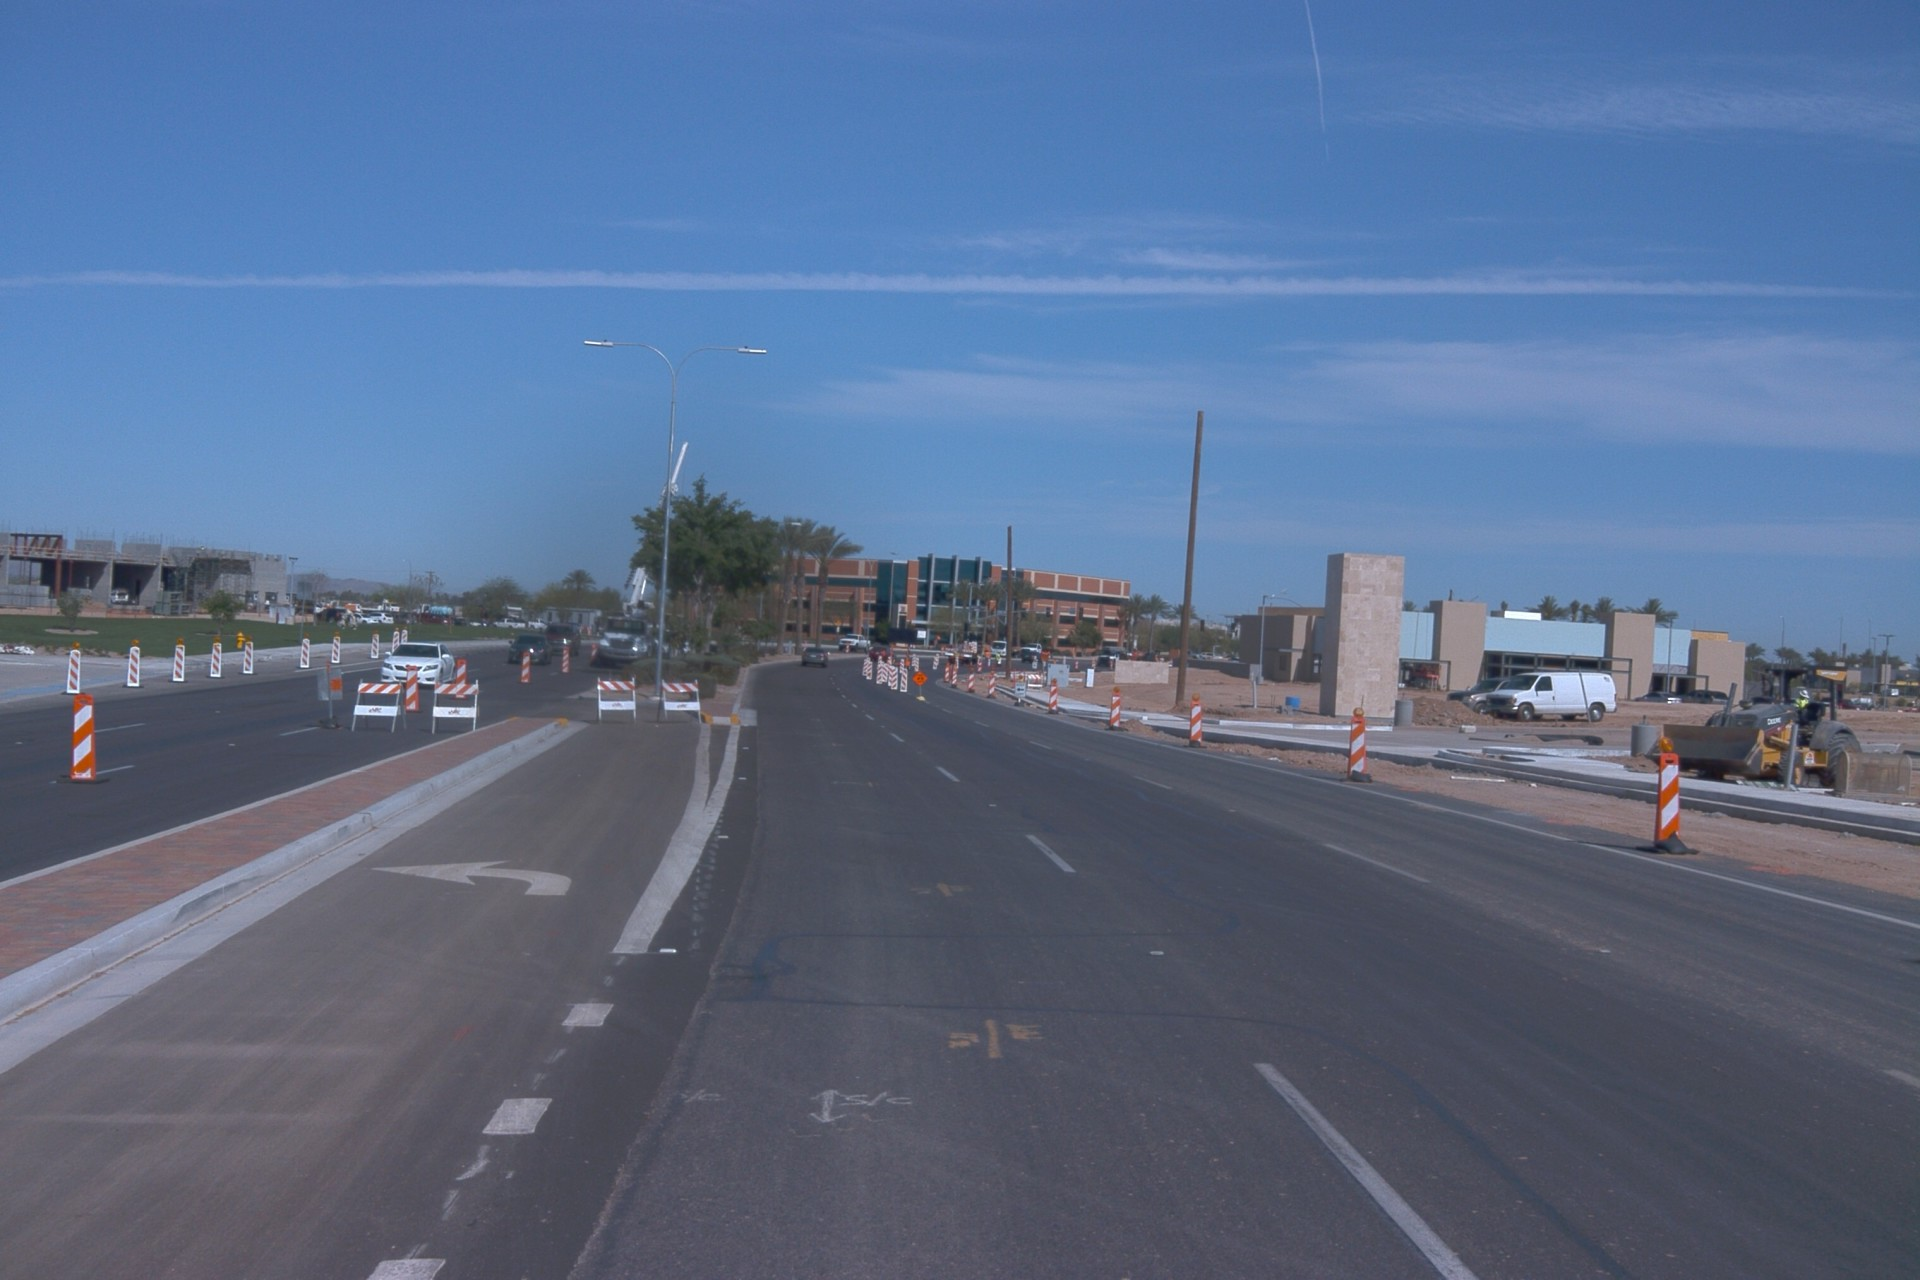TYPE_PEDESTRIAN: (1795, 690, 1812, 712), (994, 652, 1003, 669)
TYPE_VEHICLE: (585, 430, 701, 674), (1483, 672, 1619, 726), (378, 641, 455, 691), (1444, 677, 1515, 716), (881, 626, 919, 677), (540, 621, 583, 660), (507, 631, 552, 665), (941, 637, 986, 668), (1094, 645, 1138, 667), (1678, 688, 1730, 706), (311, 604, 352, 625), (1018, 639, 1059, 660), (288, 597, 330, 617), (413, 609, 454, 628), (1819, 696, 1868, 711), (801, 645, 831, 669), (1632, 692, 1684, 705), (837, 632, 872, 651), (865, 641, 895, 663), (489, 614, 528, 630), (1788, 695, 1832, 708), (391, 610, 421, 628), (367, 606, 397, 624), (987, 635, 1012, 655), (107, 584, 128, 607), (352, 612, 381, 627)
